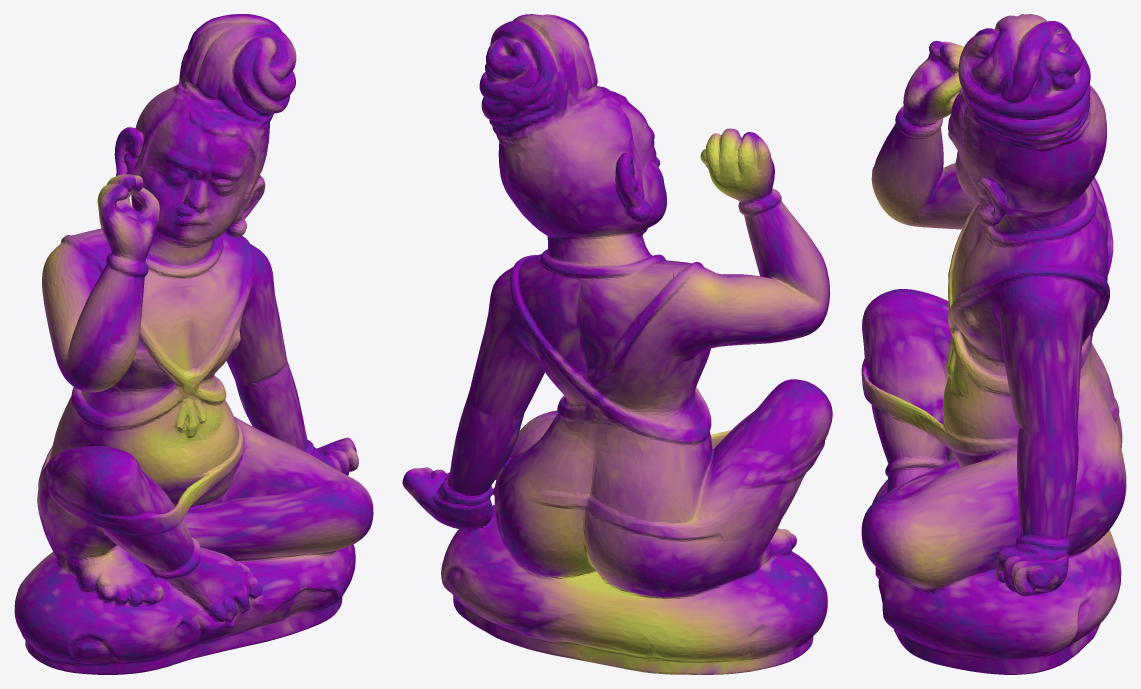
The model's file is iter_2.glb.
3 renders of one model, left to right at view 1: azimuth 30°, elevation 25°; view 2: azimuth 150°, elevation 25°; view 3: azimuth 270°, elevation 25°, orthographic. The views are drawn at different scales.
Visible parts, largest first — view 1: textured_mesh; view 2: textured_mesh; view 3: textured_mesh.
Boxes of the visible parts, x1=… form: textured_mesh: x1=14, y1=14, x2=373, y2=674; textured_mesh: x1=402, y1=14, x2=832, y2=674; textured_mesh: x1=861, y1=14, x2=1126, y2=674.
Size of the model in its own units: 1.31 by 1.97 by 0.7726.
